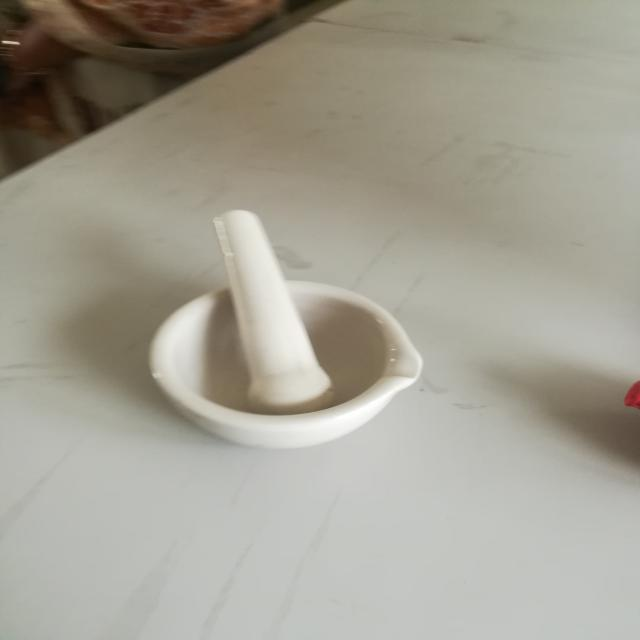Porcelain_Mortar Pestle: (121, 144, 433, 492)
